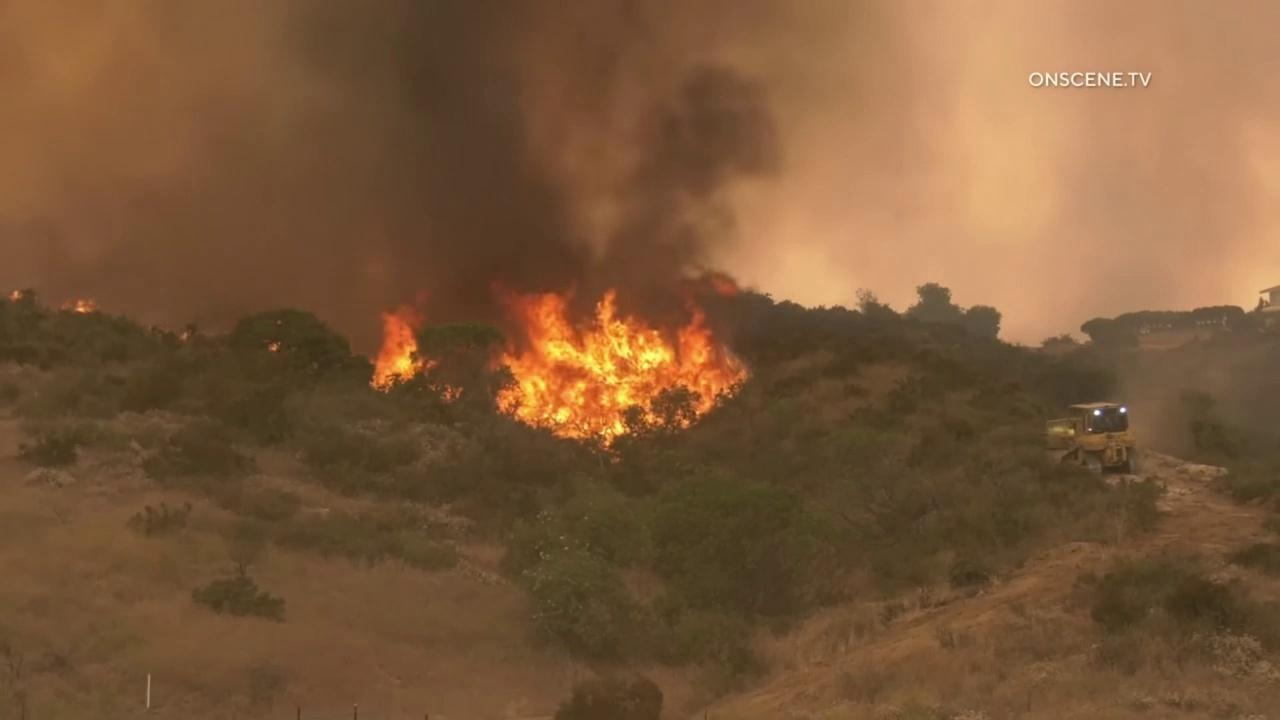fire: (483, 272, 756, 467), (366, 290, 463, 405), (61, 297, 97, 315), (8, 288, 24, 303), (267, 340, 283, 353), (178, 331, 189, 341)
smoke: (0, 0, 1280, 337)
